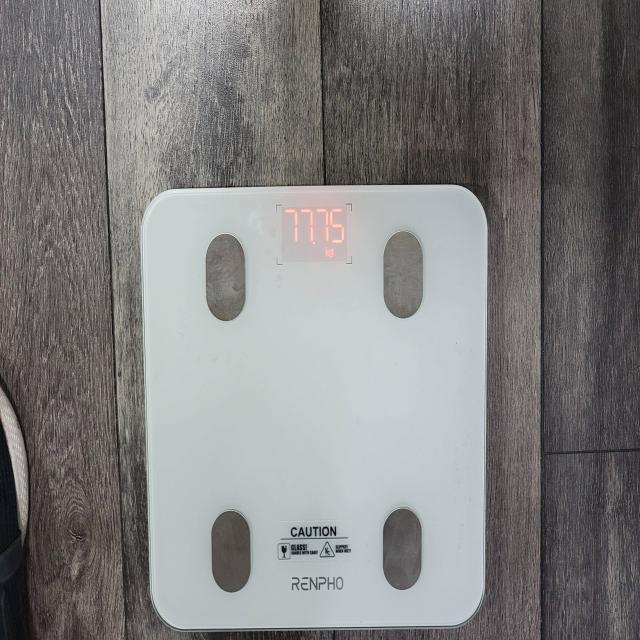ws: (139, 185, 489, 636)
